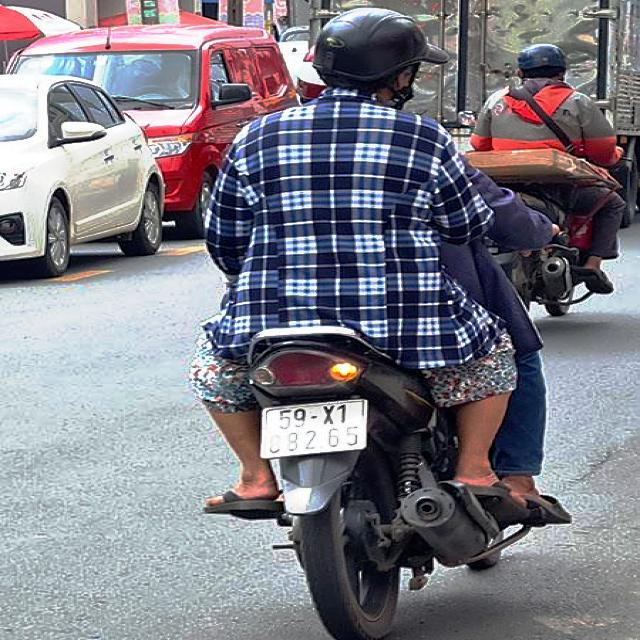license_plate: (265, 401, 369, 458)
